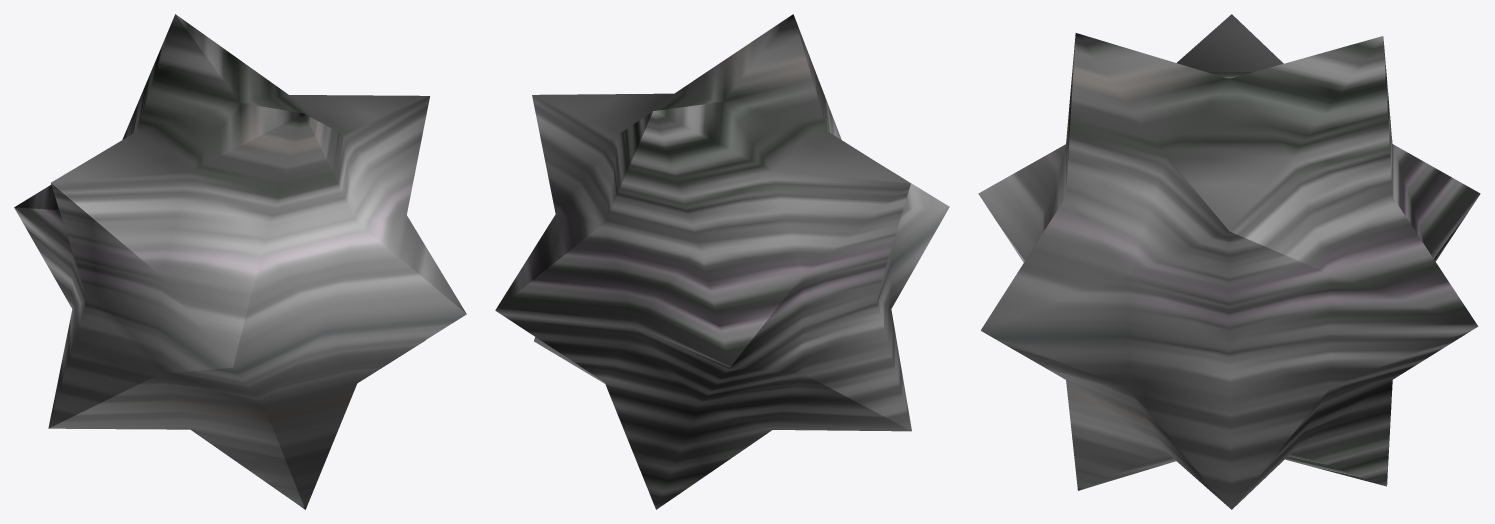
Rendered from WARTSTONE.fbx.
3 renders of one model, left to right at view 1: azimuth 30°, elevation 25°; view 2: azimuth 150°, elevation 25°; view 3: azimuth 270°, elevation 25°, orthographic. The views are drawn at different scales.
Parts seen in each view (by area): view 1: WARTSTONE; view 2: WARTSTONE; view 3: WARTSTONE.
Part boxes in pixels (x1,y1,x2,y2): WARTSTONE: (14,14,466,509); WARTSTONE: (495,14,949,509); WARTSTONE: (978,14,1480,509).
Bounding box in the file's own units: 2671 × 2671 × 2663.
1 material, 1 textured.
